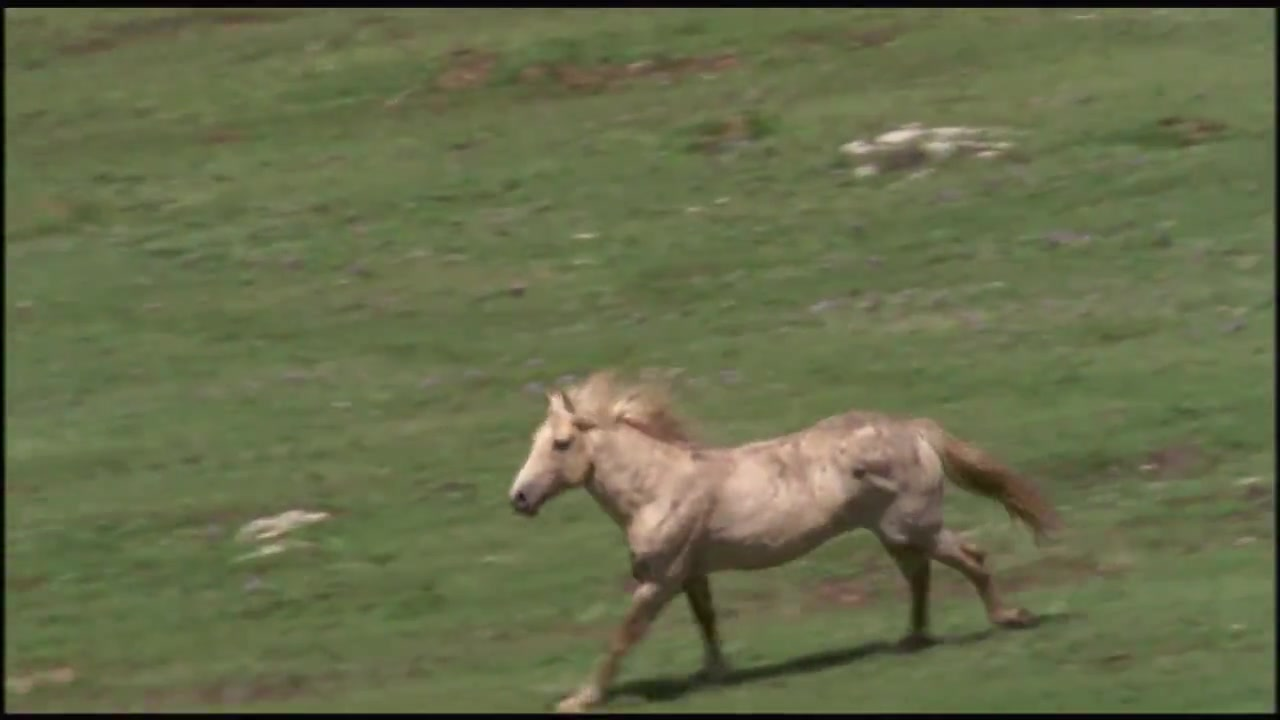horse: (509, 375, 1066, 720)
